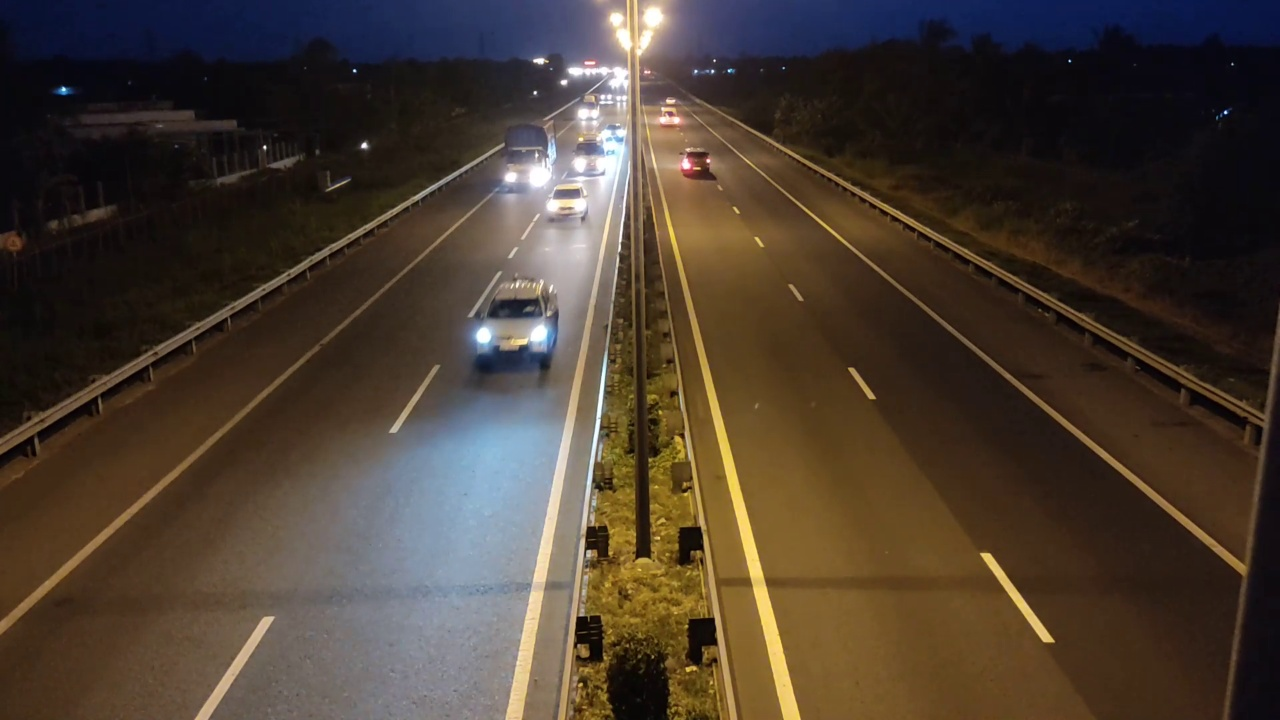car: (468, 275, 560, 372), (545, 181, 589, 225), (678, 146, 714, 179)
